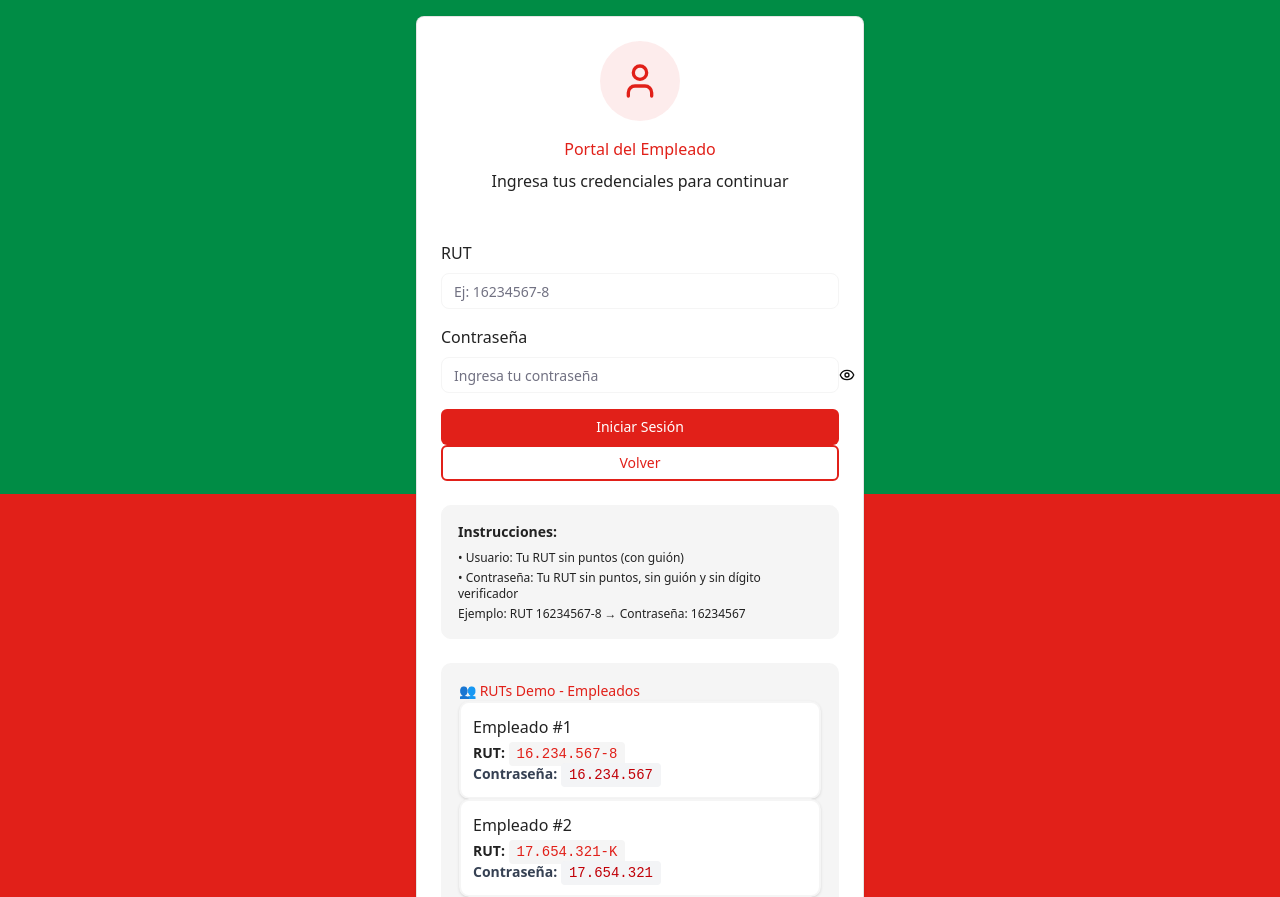
Test: Sistema de Gestión de Beneficios - Login › Login con rut inválido
Type "11111111-1" into the field with placeholder "Ej: 16234567-8" at (640, 291), box [441, 273, 839, 309]
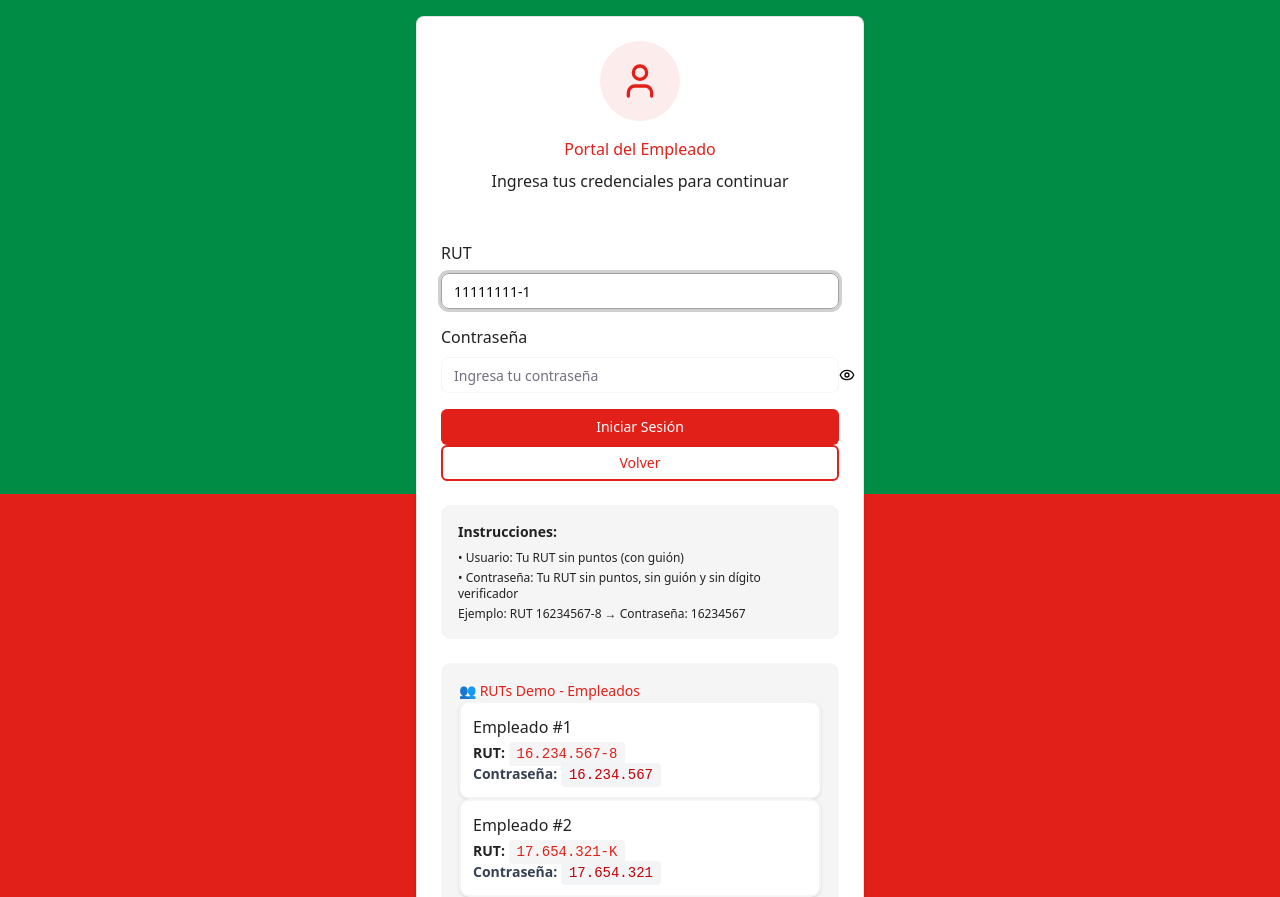
Type "11111111" into the password field with placeholder "Ingresa tu contraseña" at (640, 375), box [441, 357, 839, 393]
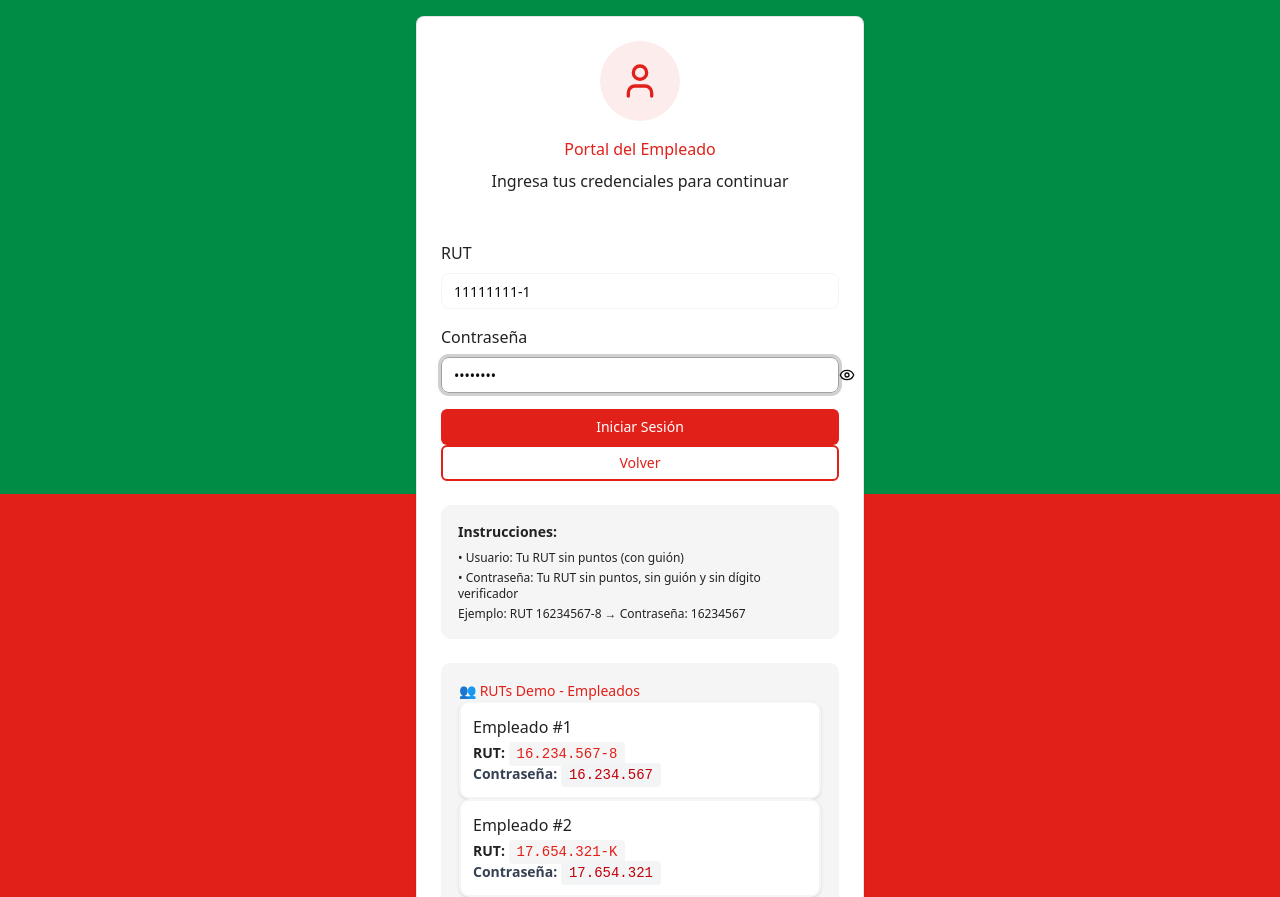
Click the button "Iniciar Sesión" at (640, 427), box [441, 409, 839, 445]
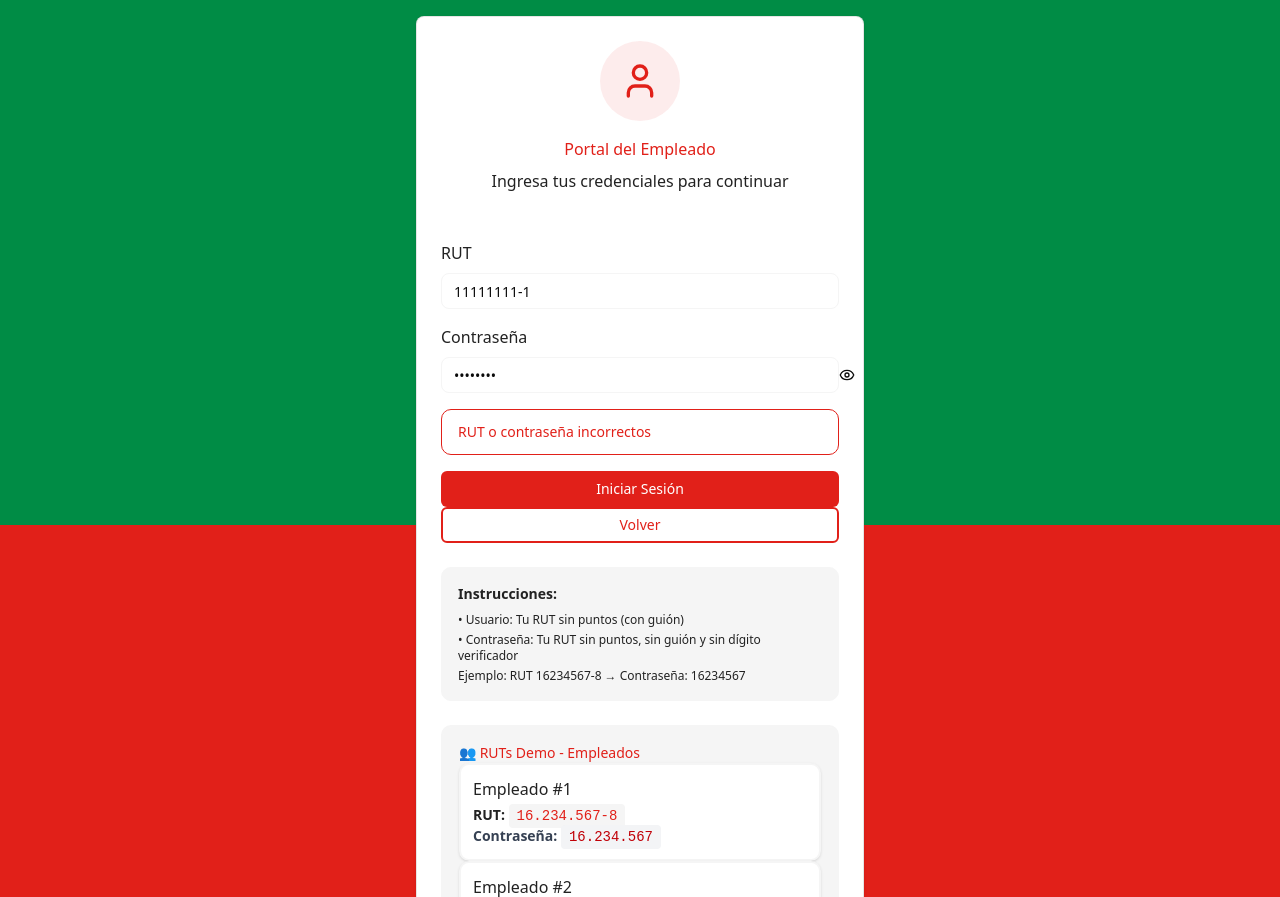
Result: the text "RUT o contraseña incorrectos" is shown at [458, 422, 651, 441]
